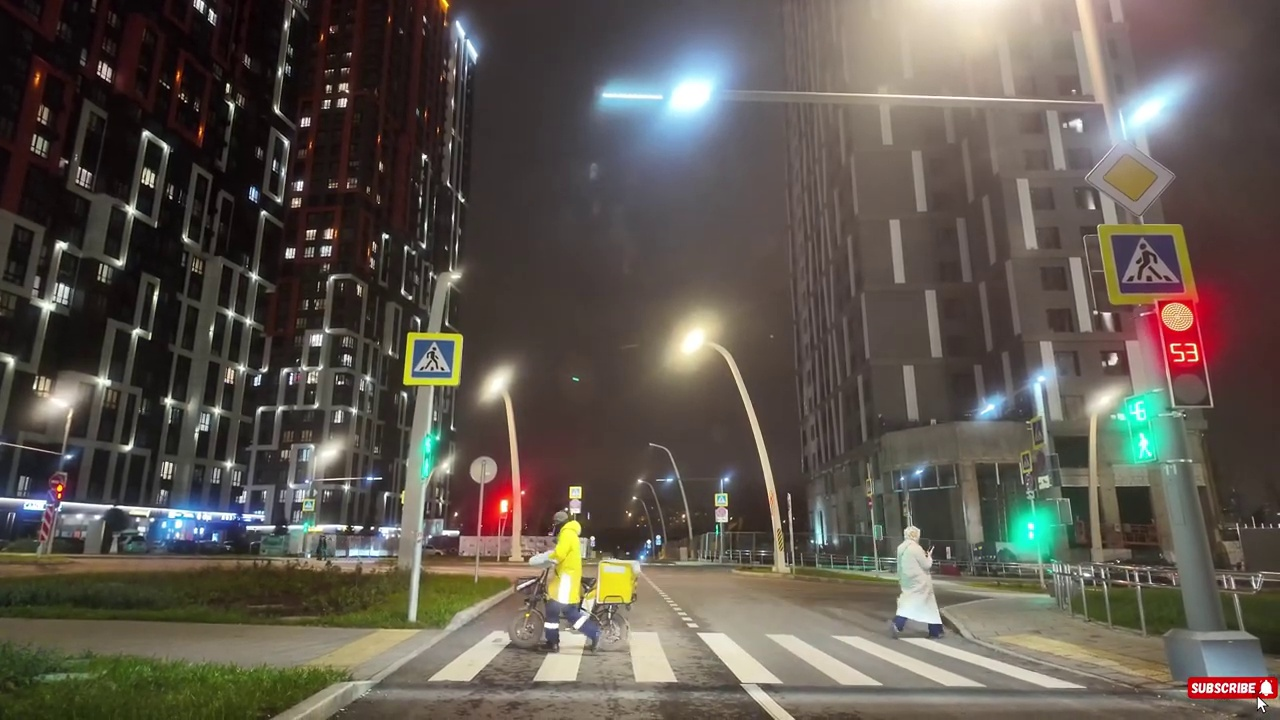acesa: (1130, 68, 1203, 127), (667, 314, 722, 374), (668, 71, 717, 117), (477, 364, 514, 407)
